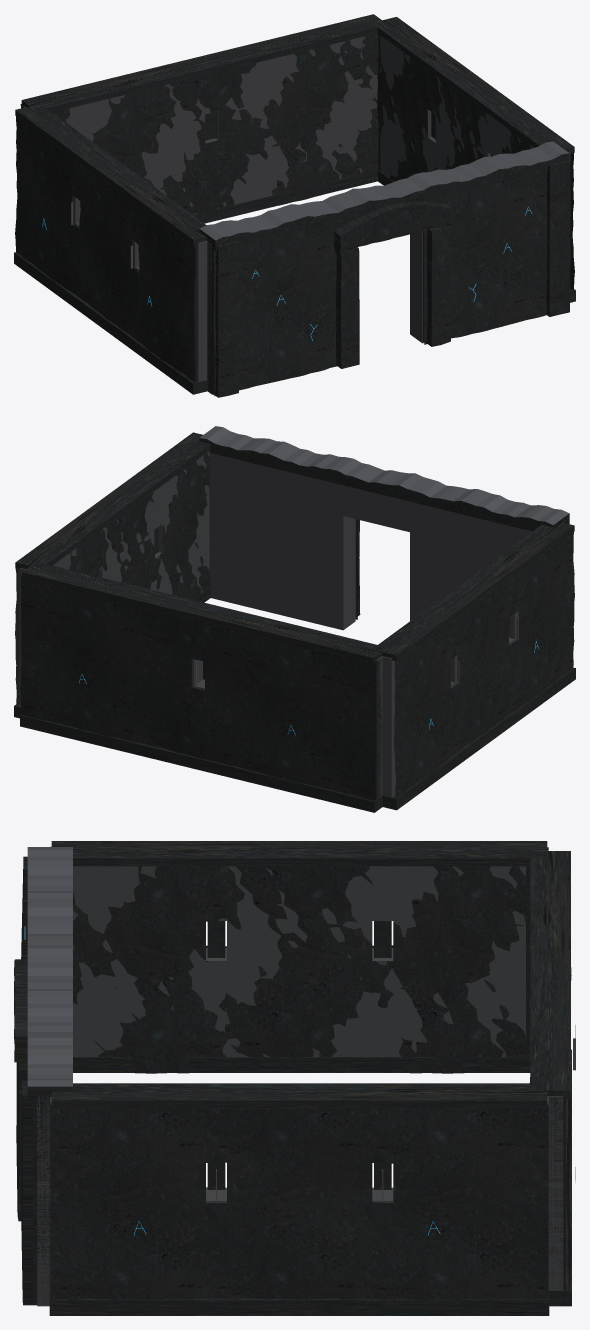
File: arcanista_four_walls_preview.glb
3 renders of one model, top to bottom at view 1: azimuth 30°, elevation 25°; view 2: azimuth 150°, elevation 25°; view 3: azimuth 270°, elevation 25°, orthographic. The views are drawn at different scales.
Parts seen in each view (by area): view 1: GENESIS_BATCH_Metamorphic slate / charcoal-blue PBR, GENESIS_BATCH_Recessed stone mortar / dark, GENESIS_BATCH_Slate / subtle iron blue inclusions, ASSET_ContinuousJaggedRoofCoping, GENESIS_BATCH_Slate / deep fracture; view 2: GENESIS_BATCH_Metamorphic slate / charcoal-blue PBR, GENESIS_BATCH_Recessed stone mortar / dark, ASSET_ContinuousJaggedRoofCoping, GENESIS_BATCH_Slate / deep fracture; view 3: GENESIS_BATCH_Metamorphic slate / charcoal-blue PBR, GENESIS_BATCH_Recessed stone mortar / dark, GENESIS_BATCH_Slate / deep fracture, ASSET_ContinuousJaggedRoofCoping, GENESIS_BATCH_Slate / subtle iron blue inclusions.
Part boxes in pixels (left/top/right/bottom): GENESIS_BATCH_Metamorphic slate / charcoal-blue PBR: left=15, top=14, right=574, bottom=396; GENESIS_BATCH_Recessed stone mortar / dark: left=23, top=35, right=570, bottom=394; GENESIS_BATCH_Slate / subtle iron blue inclusions: left=214, top=160, right=570, bottom=397; ASSET_ContinuousJaggedRoofCoping: left=199, top=141, right=569, bottom=251; GENESIS_BATCH_Slate / deep fracture: left=14, top=111, right=575, bottom=394; GENESIS_BATCH_Metamorphic slate / charcoal-blue PBR: left=15, top=432, right=574, bottom=800; GENESIS_BATCH_Recessed stone mortar / dark: left=19, top=451, right=532, bottom=798; ASSET_ContinuousJaggedRoofCoping: left=199, top=426, right=569, bottom=531; GENESIS_BATCH_Slate / deep fracture: left=14, top=527, right=575, bottom=812; GENESIS_BATCH_Metamorphic slate / charcoal-blue PBR: left=16, top=841, right=571, bottom=1304; GENESIS_BATCH_Recessed stone mortar / dark: left=37, top=850, right=563, bottom=1306; GENESIS_BATCH_Slate / deep fracture: left=49, top=921, right=571, bottom=1315; ASSET_ContinuousJaggedRoofCoping: left=27, top=847, right=72, bottom=1103; GENESIS_BATCH_Slate / subtle iron blue inclusions: left=14, top=856, right=36, bottom=1305.
Bounding box in the file's own units: 8.63 × 3.39 × 7.77.
8 materials, 3 textured.
